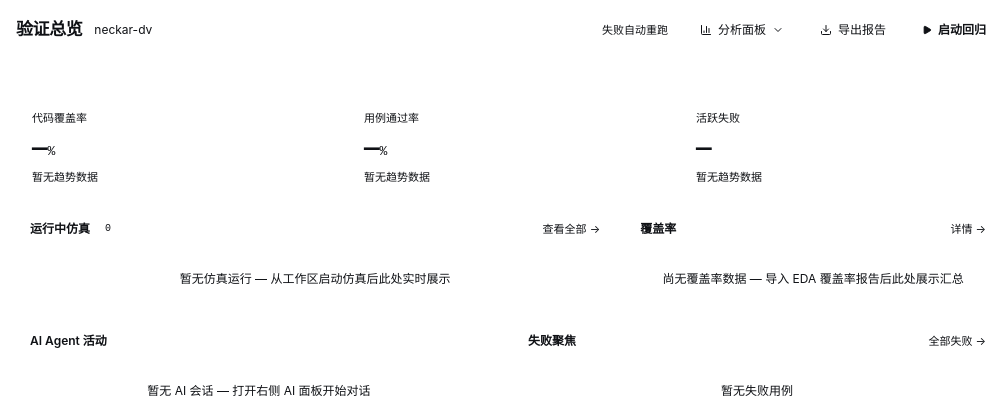
Test: DashboardView 分析面板入口 › 分析面板下拉菜单包含 8 个分析维度
Click the button with test id "analytics-dropdown-trigger" at (742, 30), box [686,16,798,44]
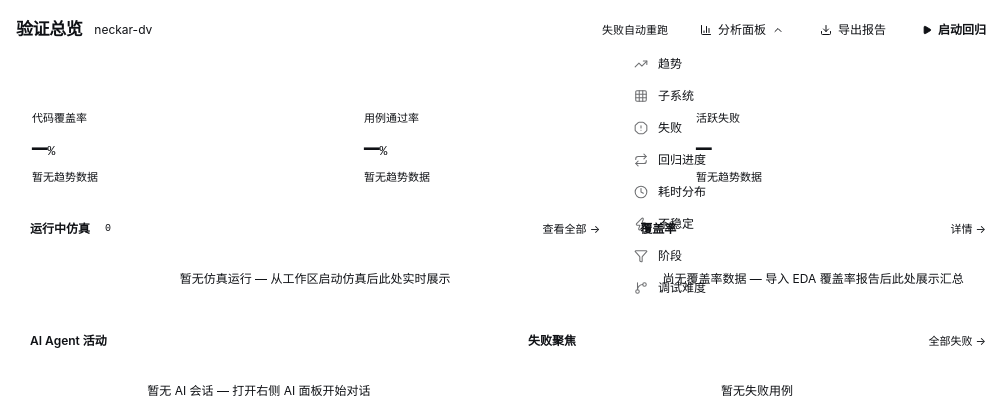
Expected: the button with test id "analytics-item-trend" is shown, [622,48,798,80]
